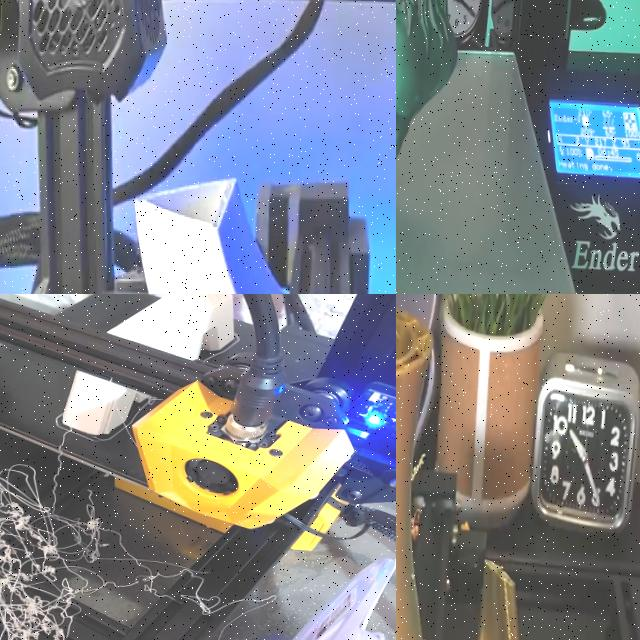spaghetti: (0, 453, 292, 640)
